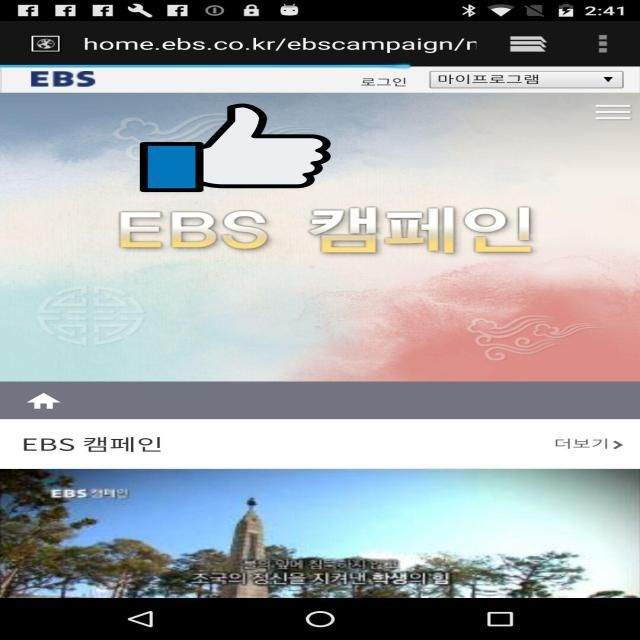privacy zuckering: (140, 102, 331, 194)
